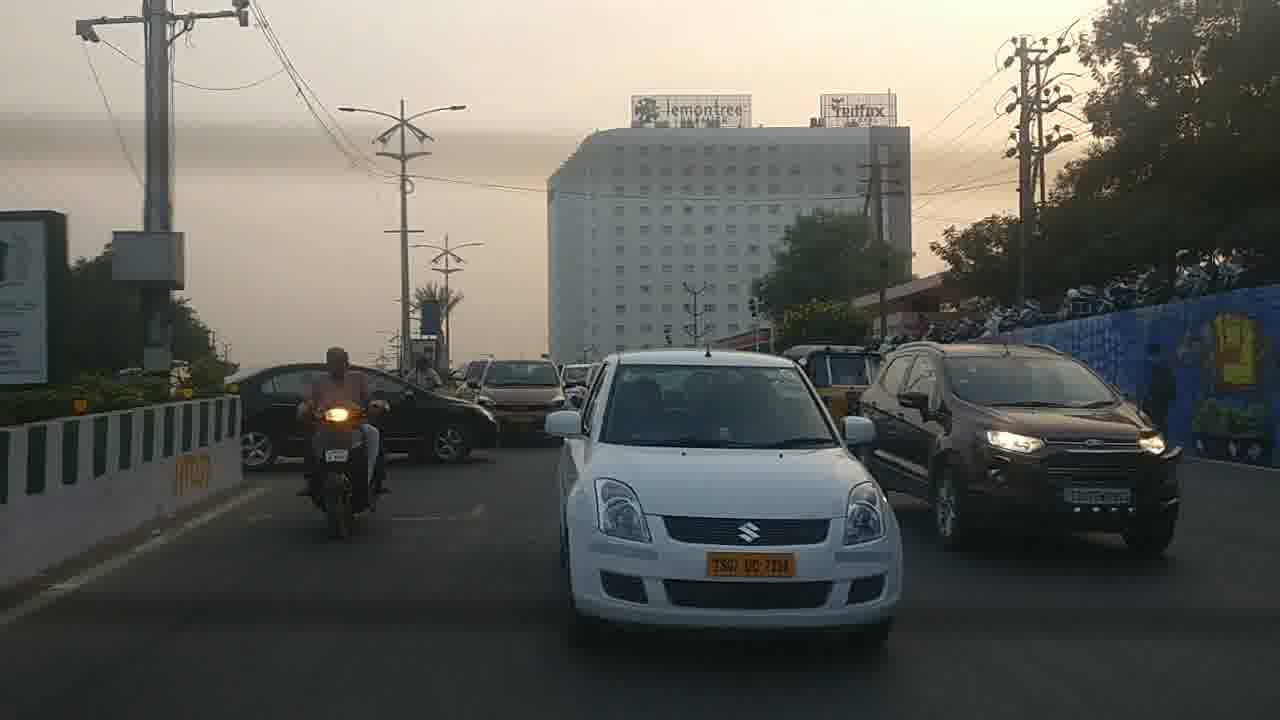swift desire: (562, 368, 896, 634)
